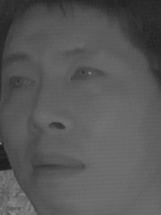eye: (70, 64, 111, 87), (4, 73, 39, 94)
mouth: (27, 146, 89, 184)
